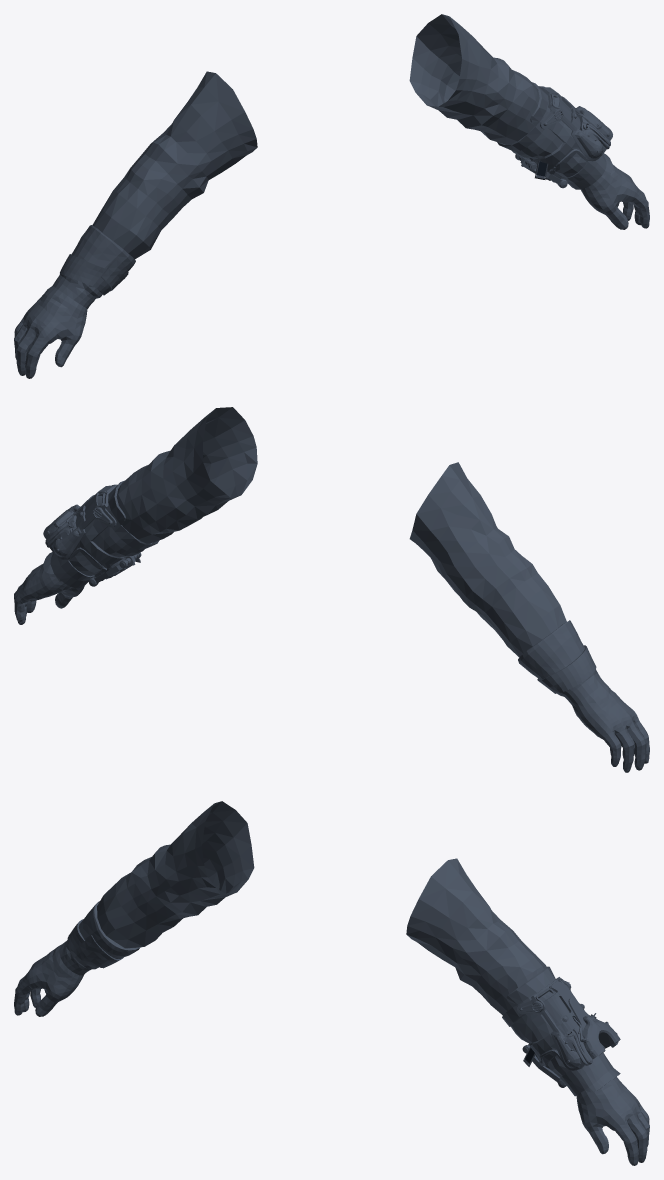
Rendered from tmd_glove_diegetic.obj.
3 renders of one model, top to bottom at view 1: azimuth 30°, elevation 25°; view 2: azimuth 150°, elevation 25°; view 3: azimuth 330°, elevation 25°, orthographic.
Visible parts, largest first — view 1: tmd_glove_Diegetic; view 2: tmd_glove_Diegetic; view 3: tmd_glove_Diegetic.
Part boxes in pixels (box(x1,y1,x2,y2)): tmd_glove_Diegetic: box(14, 14, 649, 378); tmd_glove_Diegetic: box(14, 407, 649, 772); tmd_glove_Diegetic: box(14, 801, 649, 1165).
Bounding box in the file's own units: 121 × 47.1 × 15.84.
